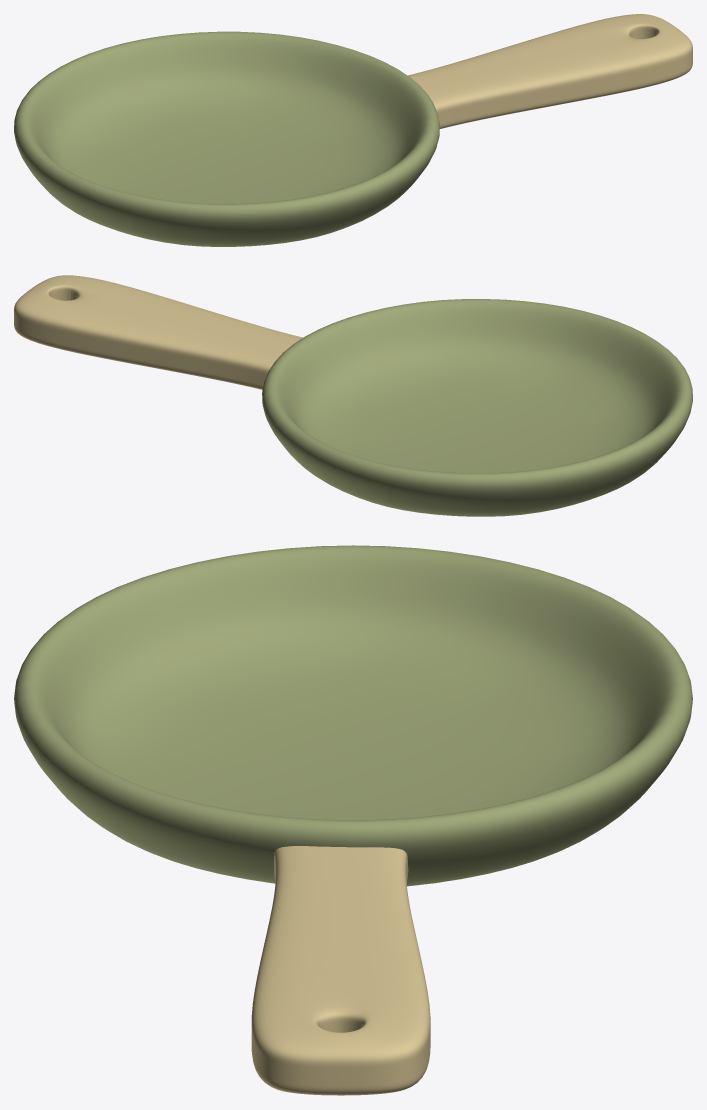
Rendered from uploads_files_5000184_1pan.fbx.
The picture shows the model from 3 angles, top to bottom: view 1: azimuth 30°, elevation 25°; view 2: azimuth 150°, elevation 25°; view 3: azimuth 270°, elevation 25°; orthographic projection. The views are drawn at different scales.
Parts seen in each view (by area): view 1: Circle, Plane; view 2: Circle, Plane; view 3: Circle, Plane.
Boxes of the visible parts, bbox=[...] form: Circle: bbox=[14, 31, 439, 246]; Plane: bbox=[408, 14, 692, 128]; Circle: bbox=[262, 299, 692, 516]; Plane: bbox=[14, 275, 302, 389]; Circle: bbox=[14, 545, 692, 886]; Plane: bbox=[251, 846, 430, 1095].
Bounding box in the file's own units: 320 × 34.42 × 187.
